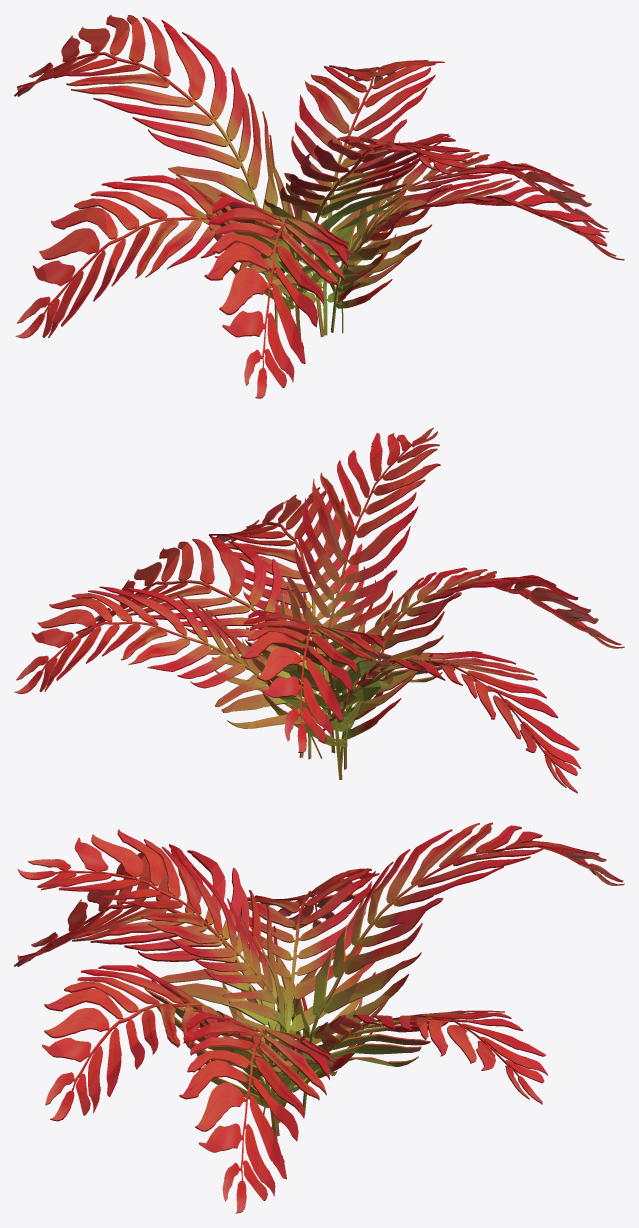
The model's file is red_fern.fbx.
The picture shows the model from 3 angles, top to bottom: view 1: azimuth 30°, elevation 25°; view 2: azimuth 150°, elevation 25°; view 3: azimuth 270°, elevation 25°; orthographic projection. The views are drawn at different scales.
Visible parts, largest first — view 1: red_fern_leave; view 2: red_fern_leave; view 3: red_fern_leave.
Part boxes in pixels (x1,y1,x2,y2): red_fern_leave: (14, 14, 624, 398); red_fern_leave: (14, 427, 624, 793); red_fern_leave: (14, 822, 624, 1213).
Bounding box in the file's own units: 4.56 × 2.1 × 4.11.
